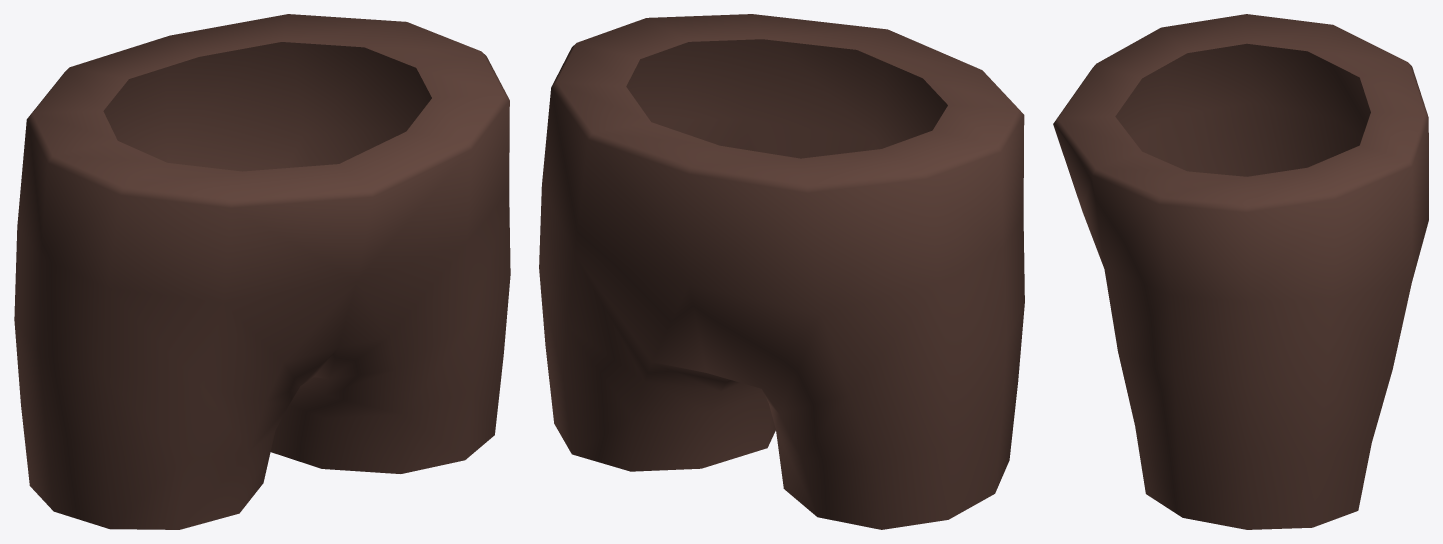
The model's file is Pants_Brown_004.glb.
3 views of the same model, side by side, from view 1: azimuth 30°, elevation 25°; view 2: azimuth 150°, elevation 25°; view 3: azimuth 270°, elevation 25° (orthographic). The views are drawn at different scales.
Parts seen in each view (by area): view 1: Pants_Brown_004; view 2: Pants_Brown_004; view 3: Pants_Brown_004.
Boxes of the visible parts, <box> form: Pants_Brown_004: <box>14,14,510,529</box>; Pants_Brown_004: <box>539,14,1024,529</box>; Pants_Brown_004: <box>1053,14,1428,529</box>.
Bounding box in the file's own units: 0.4529 × 0.3473 × 0.3561.
1 material, 1 textured.
